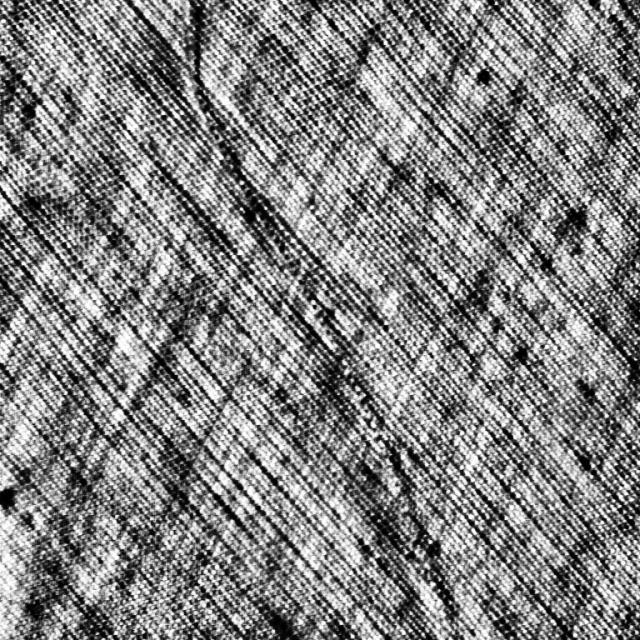Stitch: (183, 0, 462, 638)
